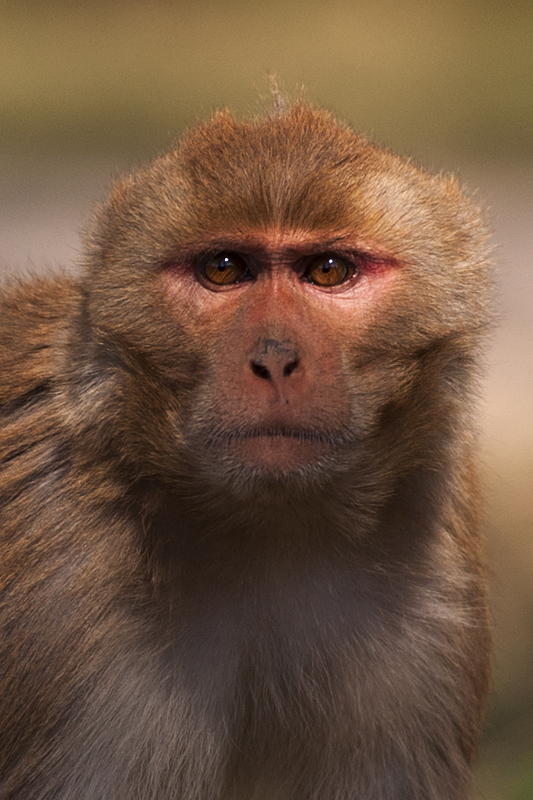monkey: (2, 78, 503, 796)
